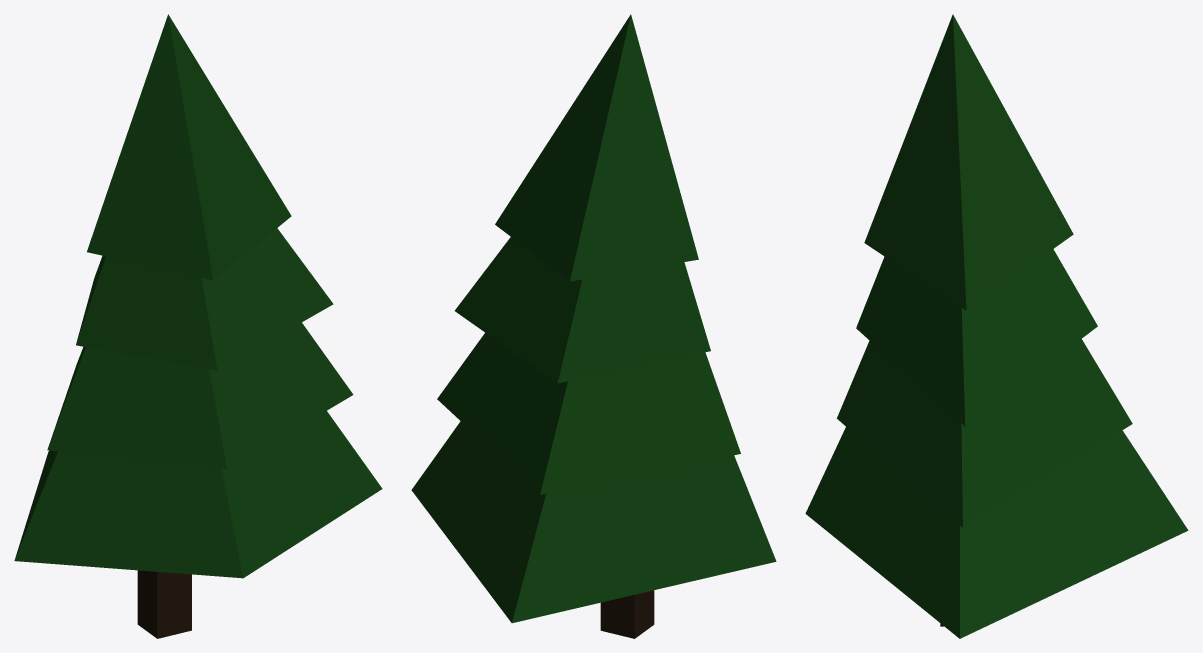
Rendered from lowpolytree2.fbx.
The picture shows the model from 3 angles, left to right: view 1: azimuth 30°, elevation 25°; view 2: azimuth 150°, elevation 25°; view 3: azimuth 270°, elevation 25°; orthographic projection.
Visible parts, largest first — view 1: merge1; view 2: merge1; view 3: merge1.
Boxes of the visible parts, box(x1,y1,x2,y2) form: merge1: box(14, 14, 382, 638); merge1: box(411, 14, 776, 638); merge1: box(805, 14, 1188, 638).
Bounding box in the file's own units: 1.07 × 1.71 × 0.9815.
